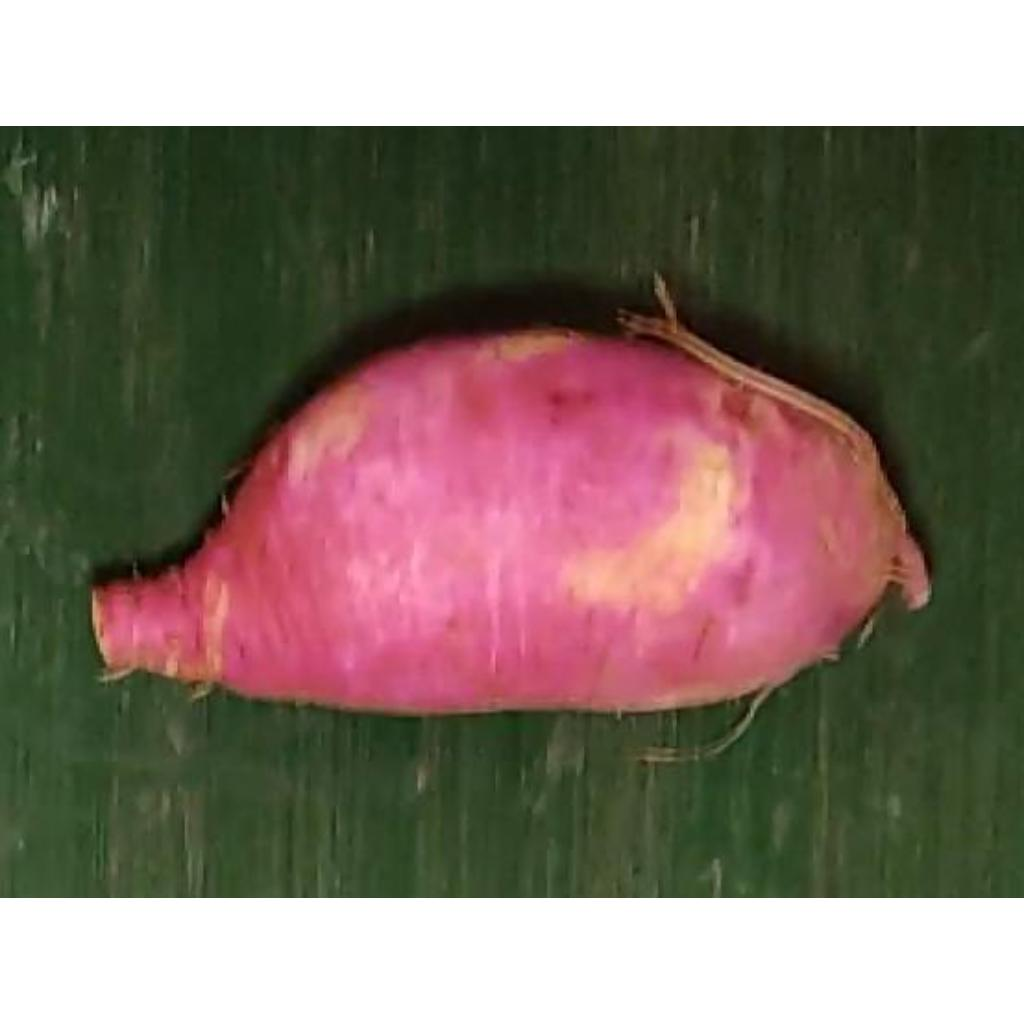Sweet Potato: (89, 337, 933, 714)
